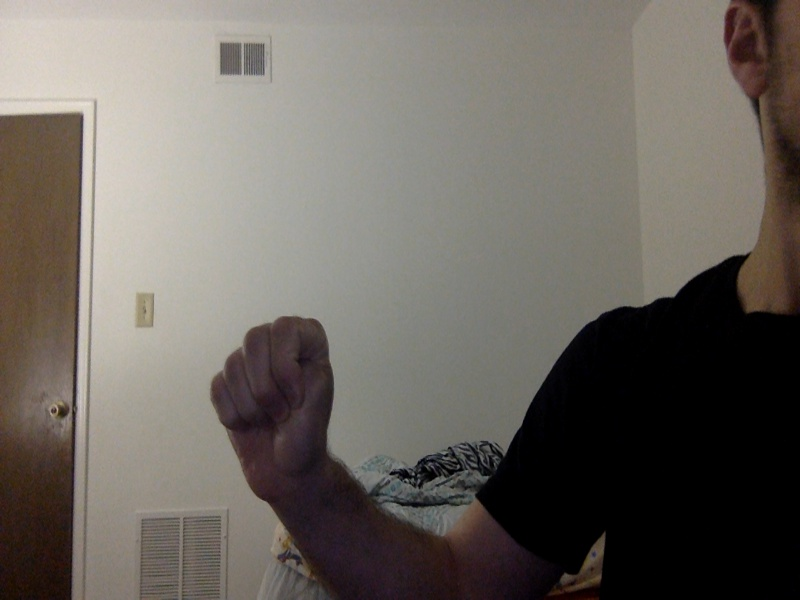0-hand: (206, 312, 344, 491)
